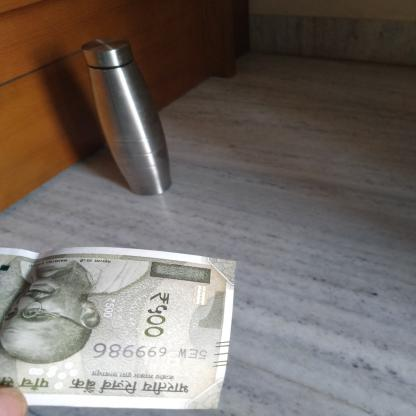New500Front: (0, 248, 221, 410)
